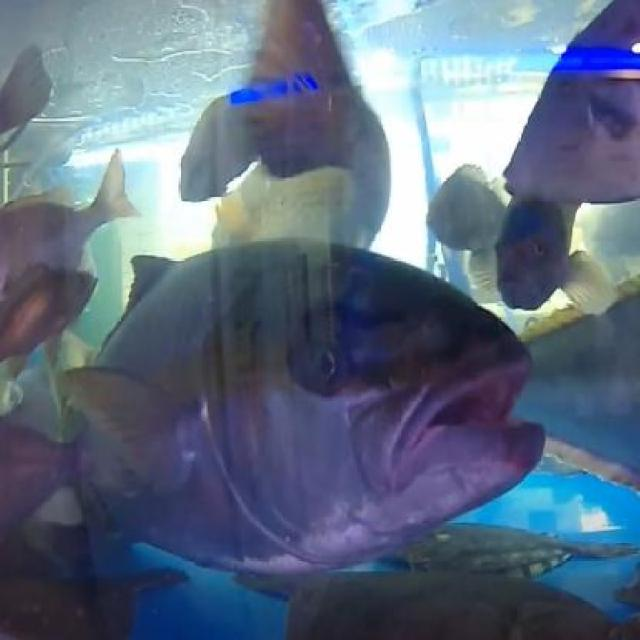Kingfish: (60, 232, 552, 582)
